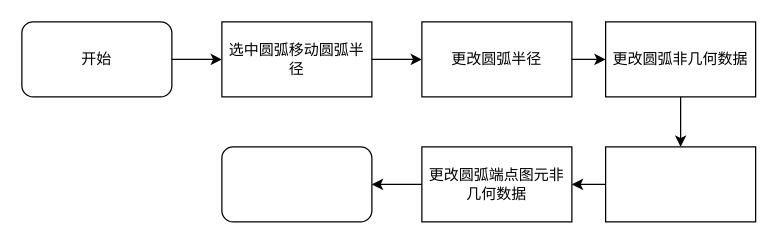
Some shapes in this 778 by 244 pixel diagram are drawn without their labels. The shapes that lost their labels are listed below. From the top down, each one's box as (x1, y1, x2, y2) in pixels, then its label:
(221, 146, 372, 222): 结束
(604, 146, 756, 222): 更改圆弧起点、终点几何数据
